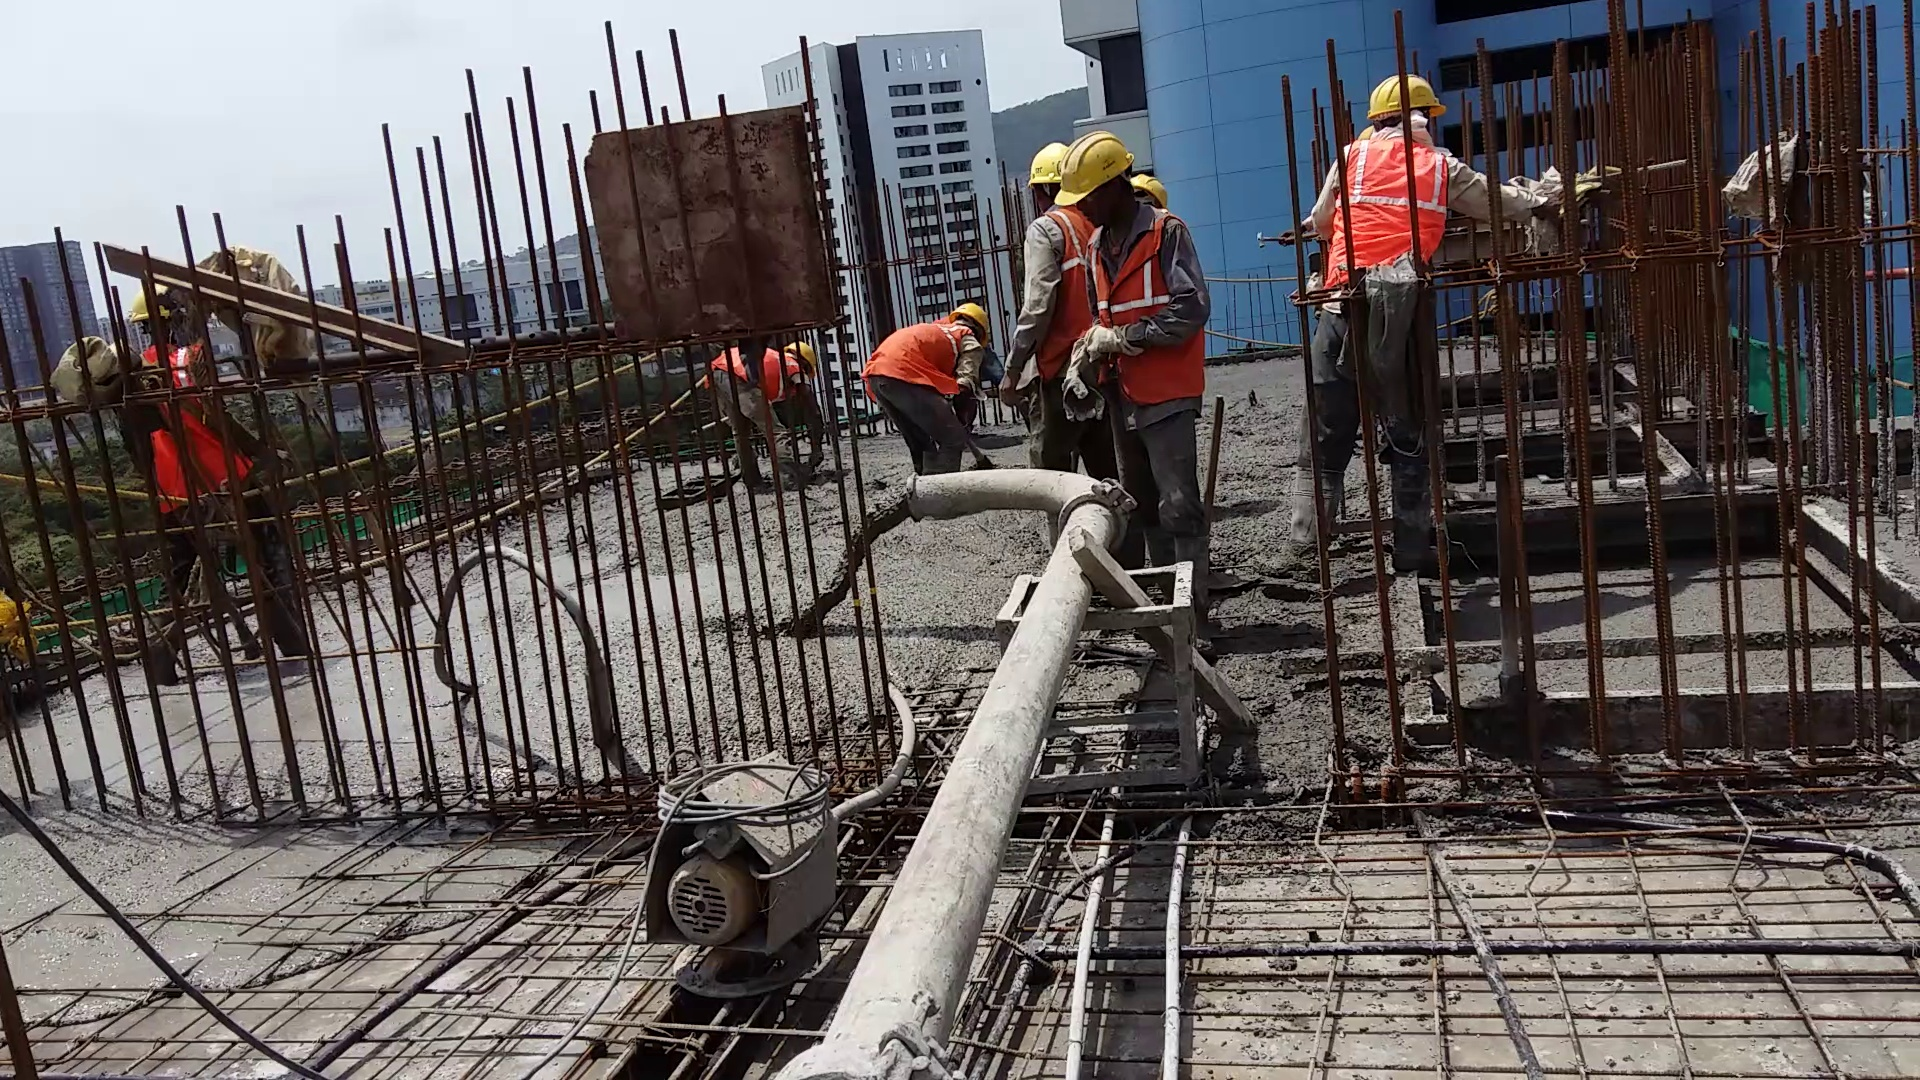SAFE: (1051, 127, 1212, 433), (1327, 70, 1458, 297)
